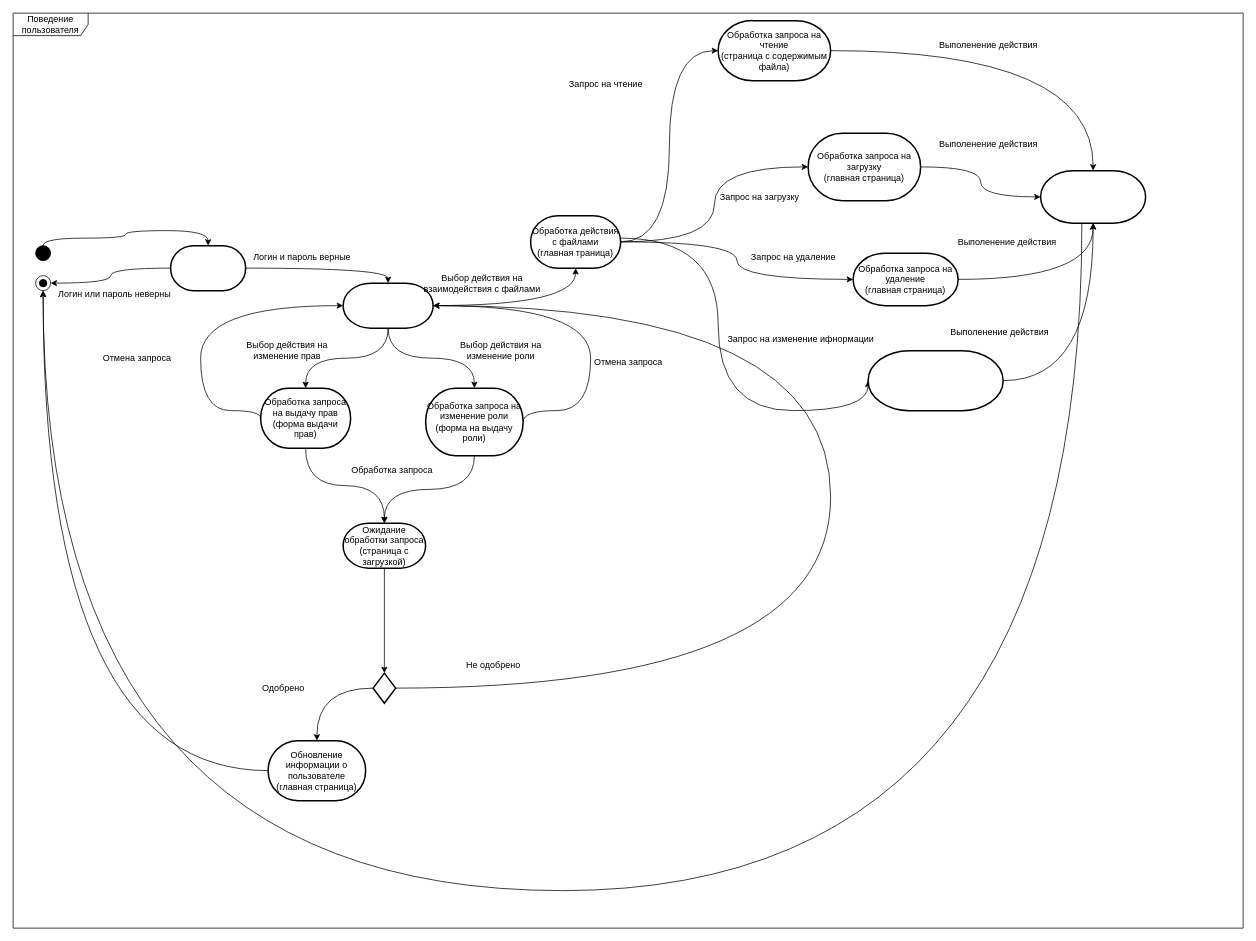
This 1256x941 diagram has some shape labels left out. Each missing label, with the centre of its shape:
"Обновление информации (главная страница)" belongs at point 1093,197.
"Обработка запроса на изменение информации о файле(Форма изменения инф. о файле)" belongs at point 935,380.
"Ожидание выбора действия (главная страница)" belongs at point 388,305.
"Ожидание логина и пароля (форма авторизации)" belongs at point 208,267.
